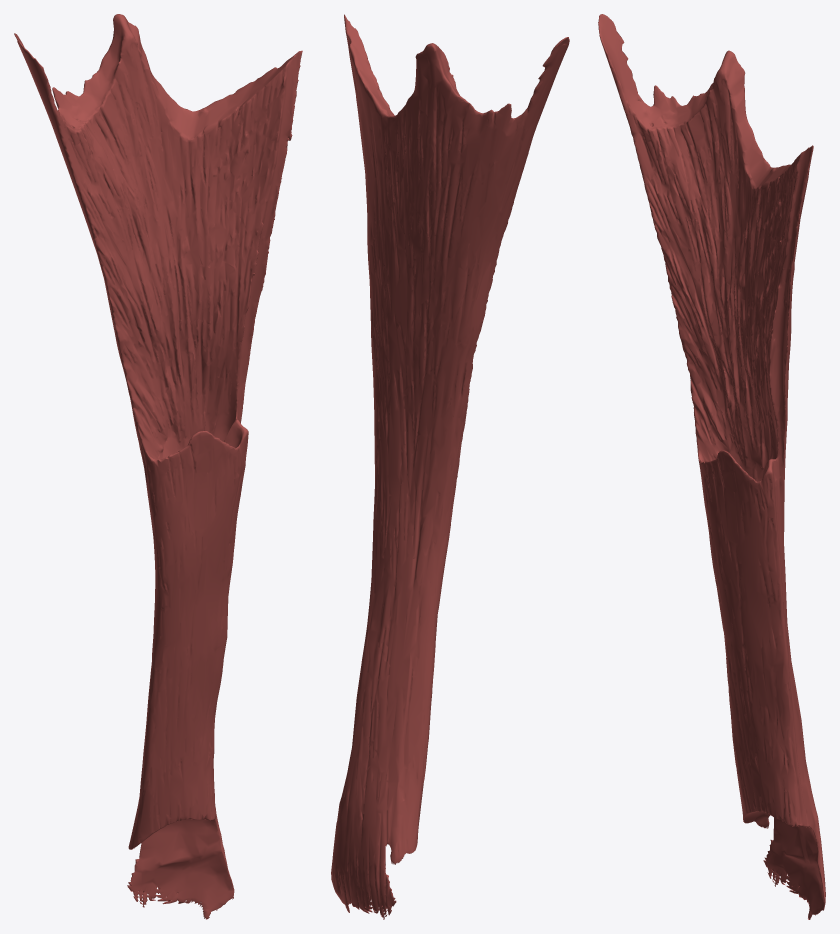
Rendered from FMA258847.glb.
3 renders of one model, left to right at view 1: azimuth 30°, elevation 25°; view 2: azimuth 150°, elevation 25°; view 3: azimuth 330°, elevation 25°, orthographic. The views are drawn at different scales.
Parts seen in each view (by area): view 1: FMA258847; view 2: FMA258847; view 3: FMA258847.
Part boxes in pixels (x1,y1,x2,y2): FMA258847: (14,14,302,919); FMA258847: (331,14,569,919); FMA258847: (598,14,825,919).
Bounding box in the file's own units: 0.0612 × 0.2133 × 0.0258.
